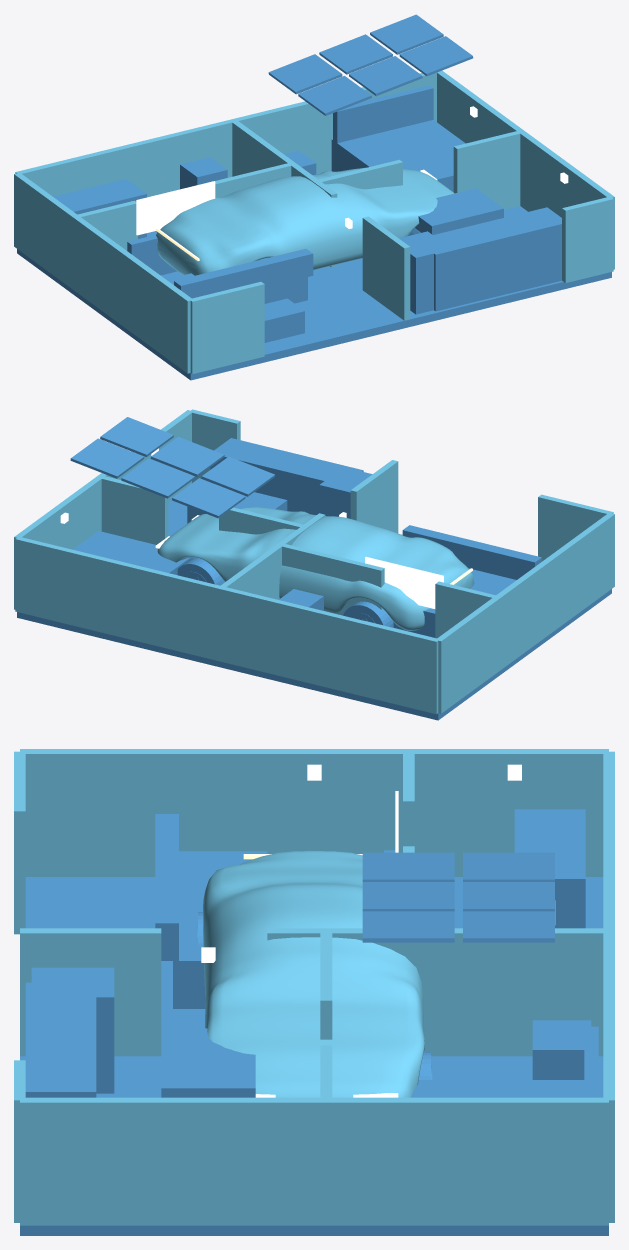
File: showroom.glb
3 views of the same model, one above another, from view 1: azimuth 30°, elevation 25°; view 2: azimuth 150°, elevation 25°; view 3: azimuth 270°, elevation 25° (orthographic). The views are drawn at different scales.
Visible parts, largest first — view 1: House_Walls, House_Furniture, Car_Body, House_Slab, House_Solar, House_Devices; view 2: House_Walls, Car_Body, House_Furniture, House_Solar, House_Slab, House_Devices, Car_Wheel_0L, Car_Wheel_1L; view 3: House_Walls, Car_Body, House_Furniture, House_Slab, House_Solar, House_Devices.
Part boxes in pixels (x1=…): House_Walls: x1=14, y1=70, x2=614, y2=373; House_Furniture: x1=53, y1=85, x2=561, y2=342; Car_Body: x1=156, y1=167, x2=454, y2=275; House_Slab: x1=17, y1=171, x2=611, y2=380; House_Solar: x1=268, y1=14, x2=473, y2=115; House_Devices: x1=136, y1=106, x2=568, y2=235; House_Walls: x1=14, y1=409, x2=614, y2=714; Car_Body: x1=157, y1=507, x2=474, y2=630; House_Furniture: x1=73, y1=438, x2=541, y2=638; House_Solar: x1=70, y1=417, x2=274, y2=518; House_Slab: x1=17, y1=500, x2=611, y2=720; House_Devices: x1=60, y1=448, x2=443, y2=608; Car_Wheel_0L: x1=177, y1=557, x2=224, y2=585; Car_Wheel_1L: x1=343, y1=601, x2=393, y2=627; House_Walls: x1=14, y1=749, x2=614, y2=1225; Car_Body: x1=203, y1=851, x2=424, y2=1097; House_Furniture: x1=25, y1=809, x2=603, y2=1097; House_Slab: x1=20, y1=877, x2=608, y2=1235; House_Solar: x1=362, y1=852, x2=554, y2=942; House_Devices: x1=201, y1=764, x2=521, y2=962.
Size of the model in its own units: 7.1 by 2.49 by 5.1.
